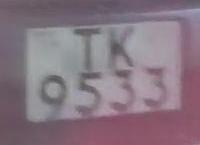3: (139, 60, 175, 112), (106, 66, 143, 116)
5: (70, 69, 107, 120)
9: (35, 71, 72, 122)
K: (103, 21, 141, 73)
T: (71, 25, 109, 73)
